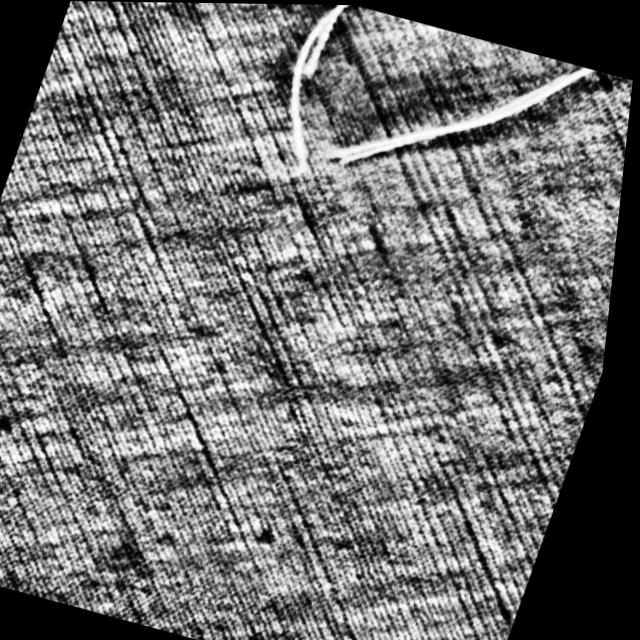Stitch: (226, 3, 620, 249)
